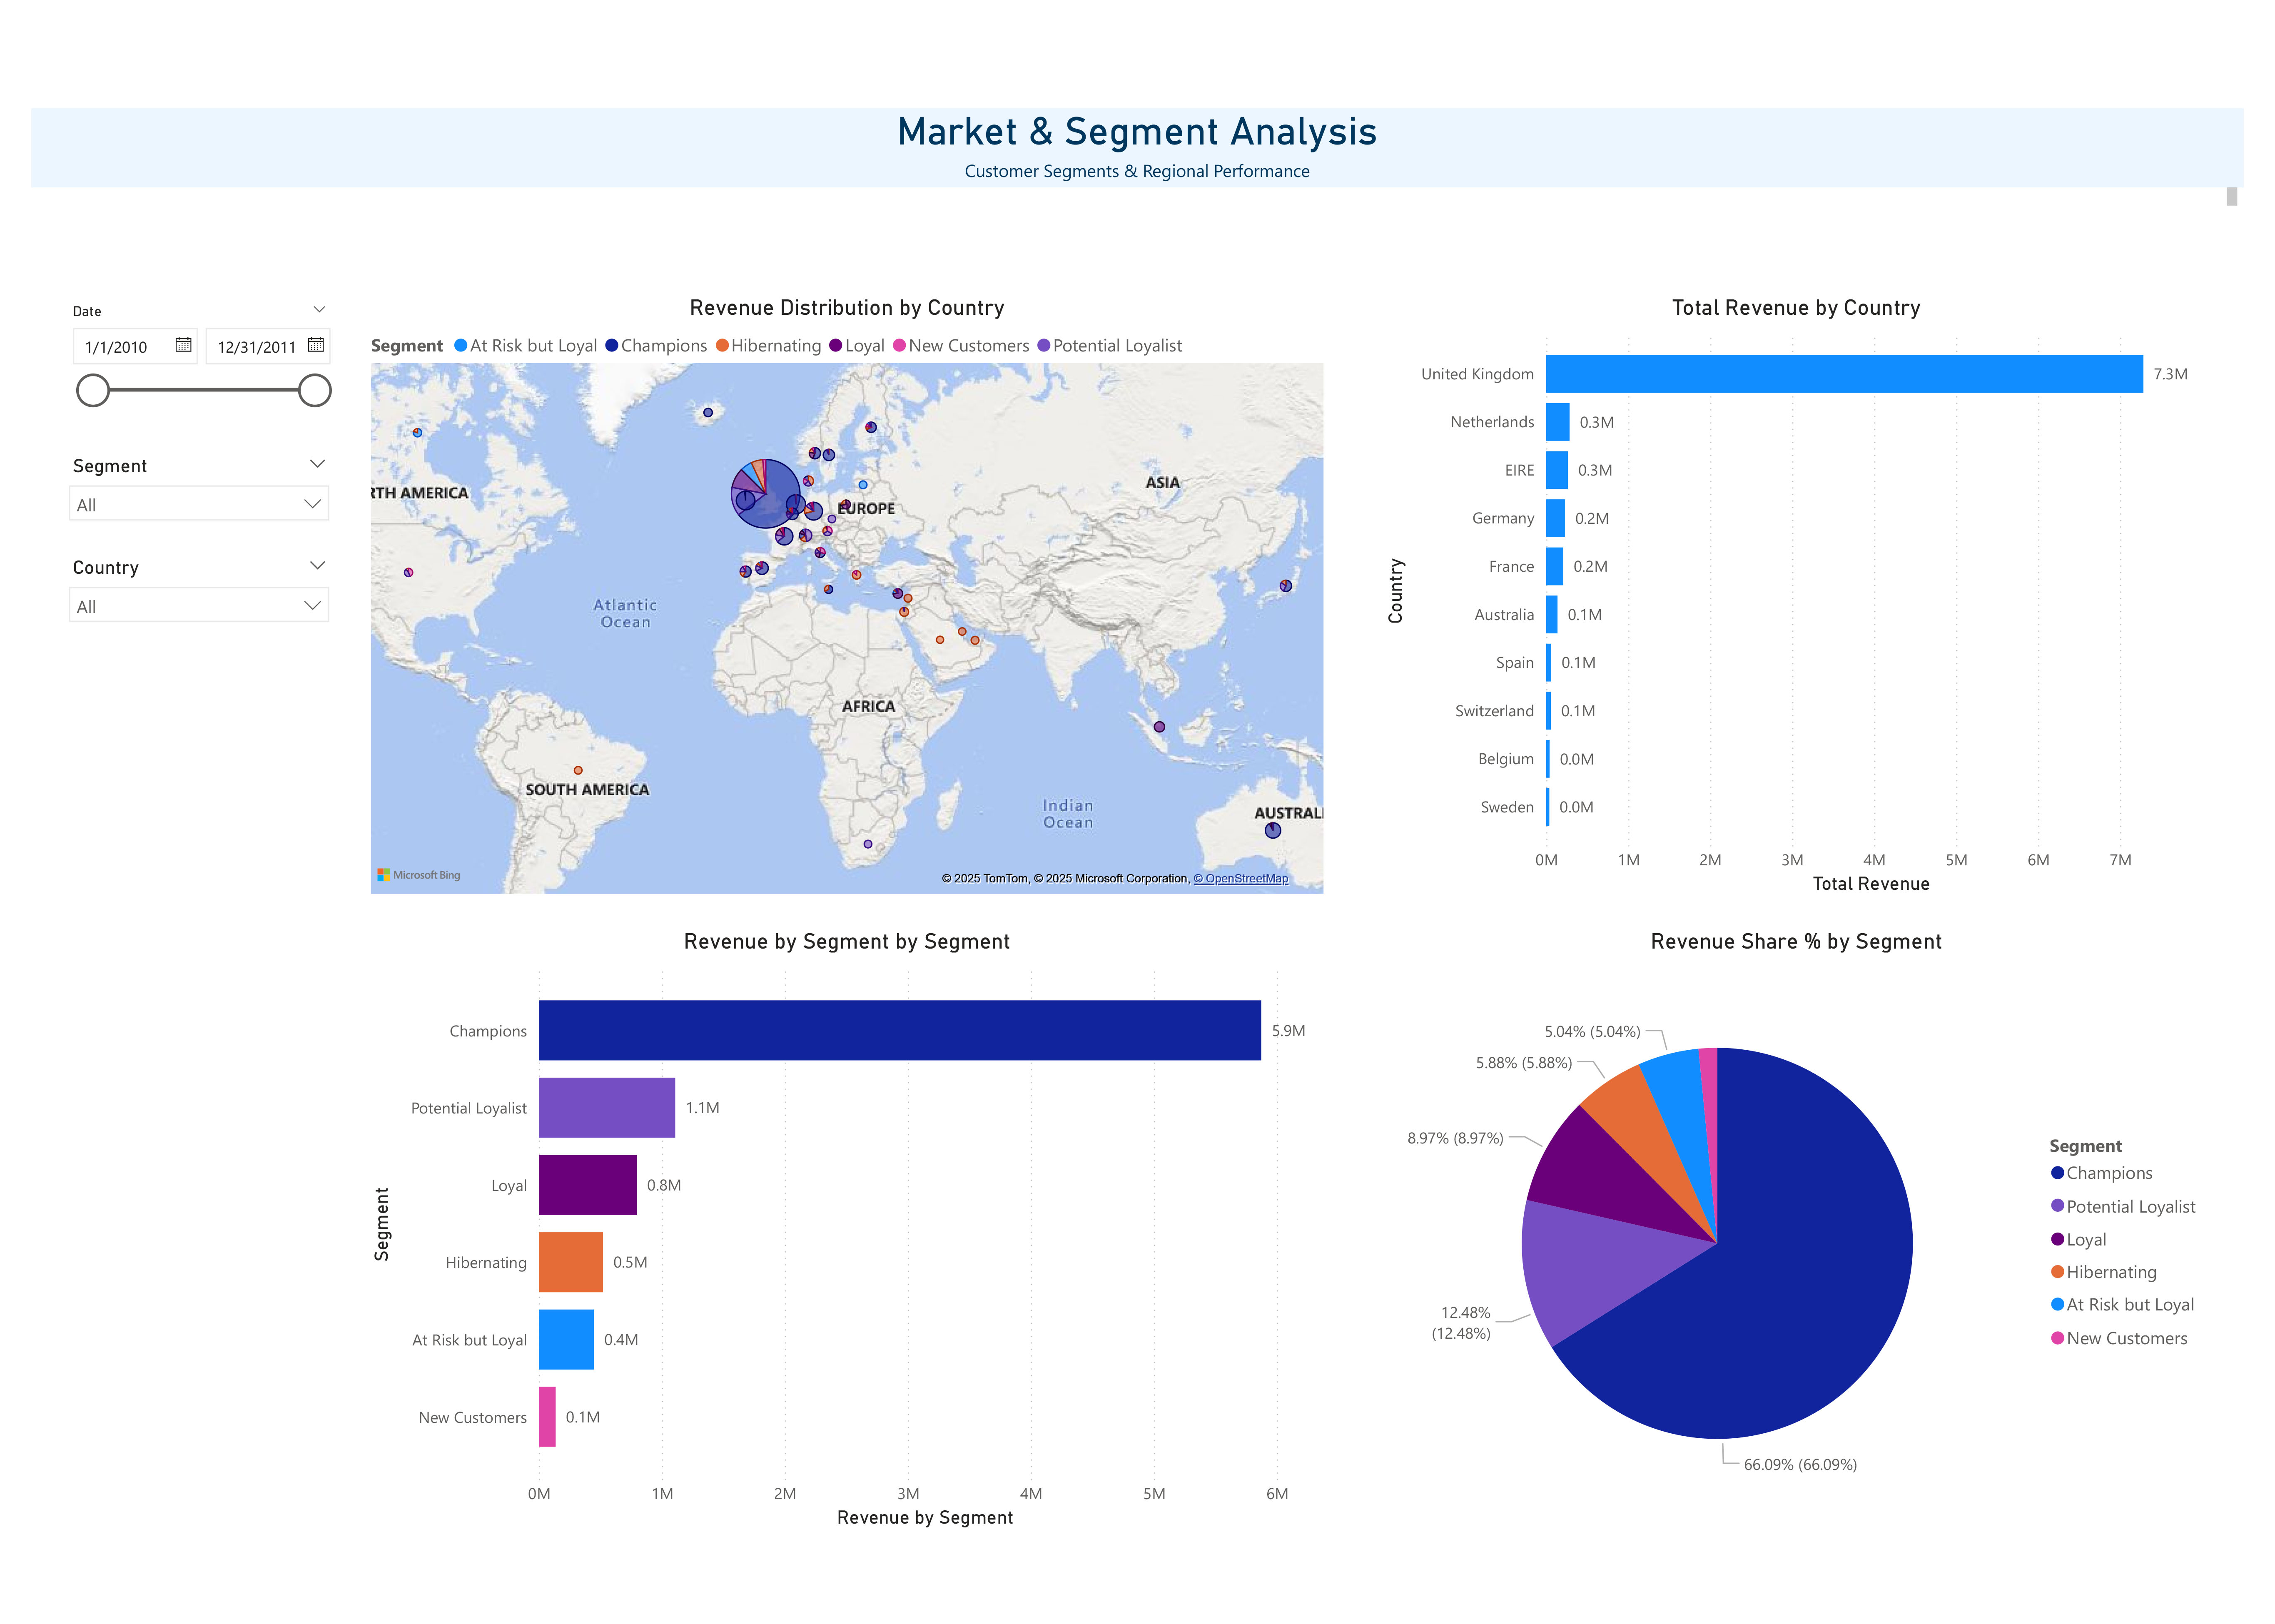

What the dashboard file says about the page in this screenshot:
{"tool":"powerbi","page":{"name":"Page 2","canvas":[1700,1200],"ordinal":1},"visuals":[{"type":"map","title":"Revenue Distribution by Country","fields":{"Category":["online_retail_clean.Country"],"Size":["_Measures.Total Revenue"],"Series":["rfm_scores.Segment"]},"box":[256.5,202.4,741.2,465.9],"z":0},{"type":"clusteredBarChart","fields":{"Category":["online_retail_clean.Country"],"Y":["_Measures.Total Revenue"]},"box":[1035.3,202.4,642.4,465.9],"z":1},{"type":"slicer","fields":{"Values":["Date.Date"]},"box":[18.9,203.7,220.5,94.5],"z":2},{"type":"slicer","fields":{"Values":["rfm_scores.Segment"]},"box":[18.9,321.3,220.5,73.5],"z":3},{"type":"slicer","fields":{"Values":["online_retail_clean.Country"]},"box":[18.9,399,220.5,73.5],"z":4},{"type":"barChart","fields":{"Category":["rfm_scores.Segment"],"Y":["rfm_scores.Revenue by Segment"]},"box":[256.5,689.4,741.2,465.9],"z":5},{"type":"pieChart","title":"Revenue Share % by Segment","fields":{"Category":["rfm_scores.Segment"],"Y":["_Measures.Revenue Share % by Segment"]},"box":[1035.3,689.4,642.4,465.9],"z":6},{"type":"textbox","title":"Market & Segment Analysis","box":[0,58.8,1700,80],"z":7}]}

Visuals, with their boxes in screenshot pixels (x1, y1, x2, y2):
"Revenue Distribution by Country" map: 365:295:1330:901
clusteredBarChart - online_retail_clean.Country x _Measures.Total Revenue: 1379:295:2215:901
slicer - Date.Date: 56:296:343:419
slicer - rfm_scores.Segment: 56:449:343:545
slicer - online_retail_clean.Country: 56:550:343:646
barChart - rfm_scores.Segment x rfm_scores.Revenue by Segment: 365:928:1330:1534
"Revenue Share % by Segment" pieChart: 1379:928:2215:1534
"Market & Segment Analysis" textbox: 31:108:2244:212
